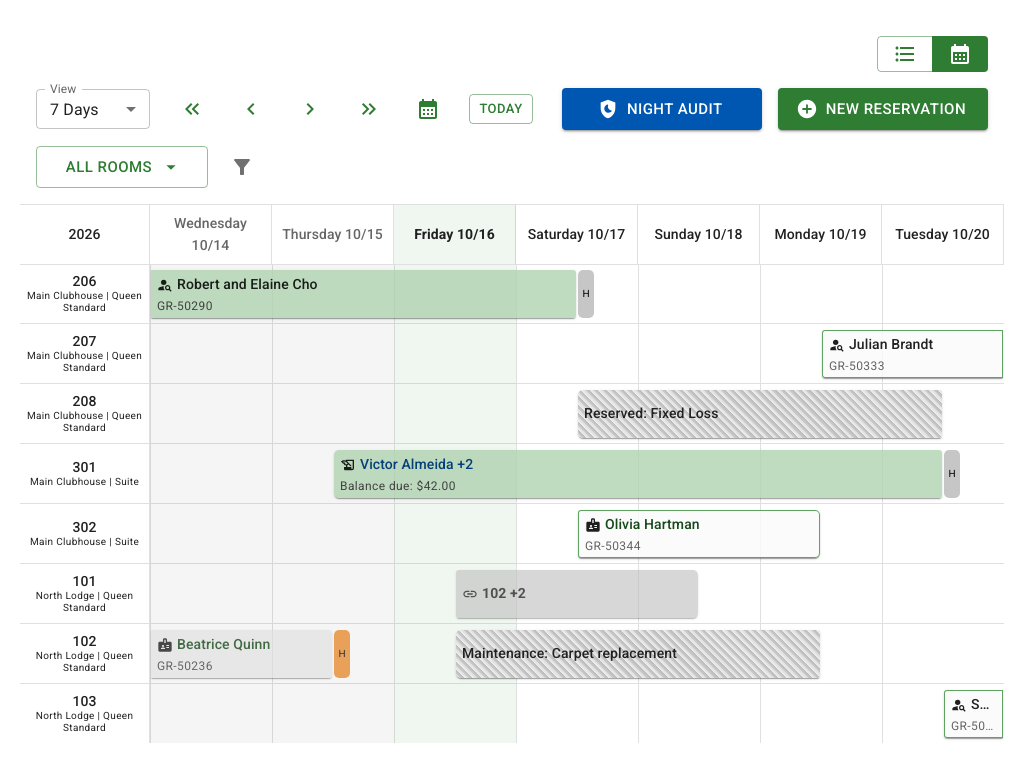
Scenario: the lock icons of Change Room During Stay › start closed for a user without them: Location, Room Type and Room cannot be changed
(page scrolled)
What coordinates should you click on to do the following:
click the cell "Victor Almeida +2 Balance due: $42.00 H"
I would click on:
 (638, 474)
Its box is [334, 450, 942, 498].
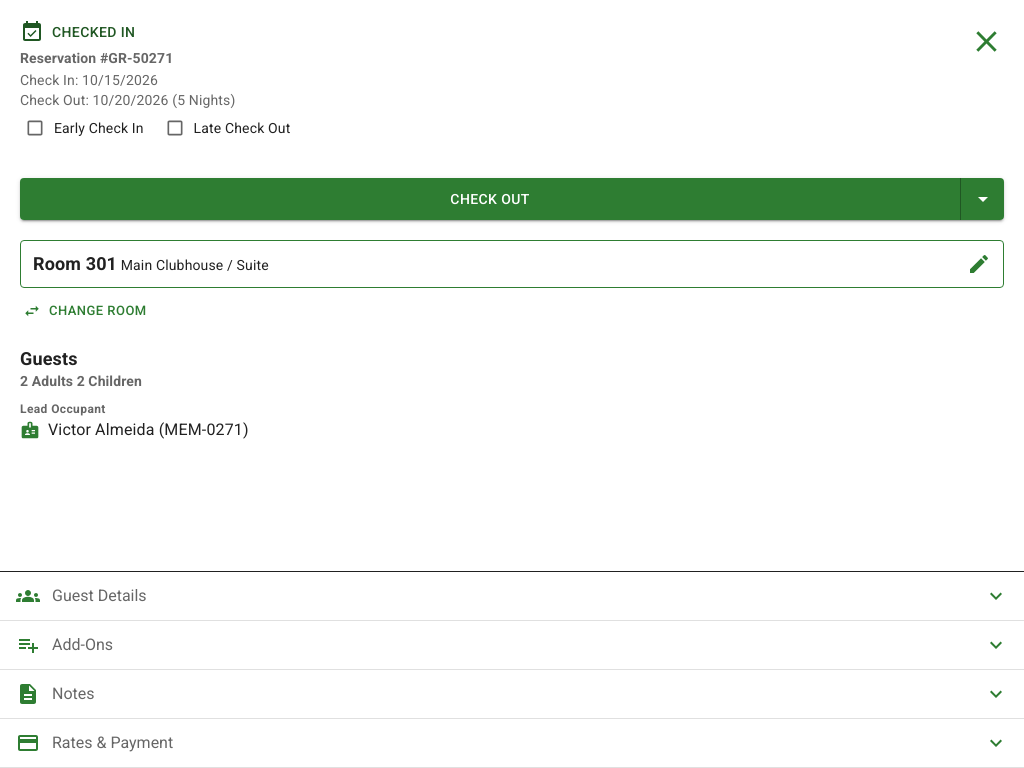
Check: the button "Change Room" is shown
What coordinates should you click on to do the following:
click the button "Change Room"
I would click on:
 (86, 311)
Its box is [20, 296, 152, 326].
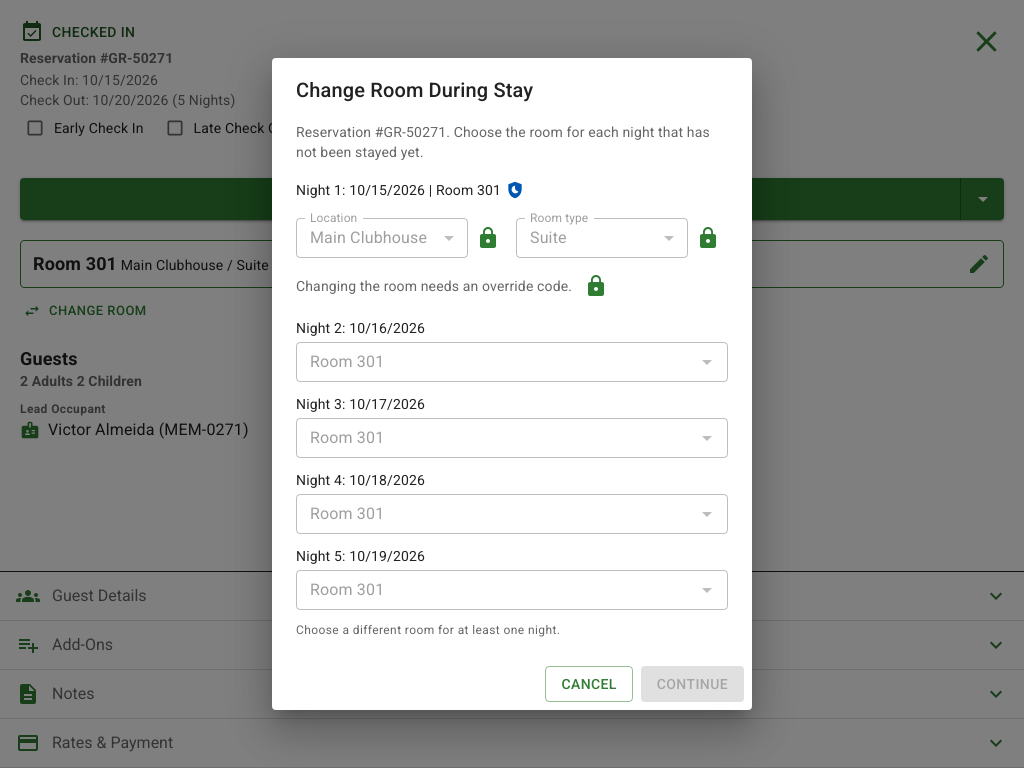
Check: the dropdown named "Room for night 2" is shown, box [302, 348, 689, 376]
Check: the button named "Unlock Room Type" is shown, box [688, 218, 728, 258]
Check: the button named "Unlock Room" is shown, box [576, 266, 616, 306]
